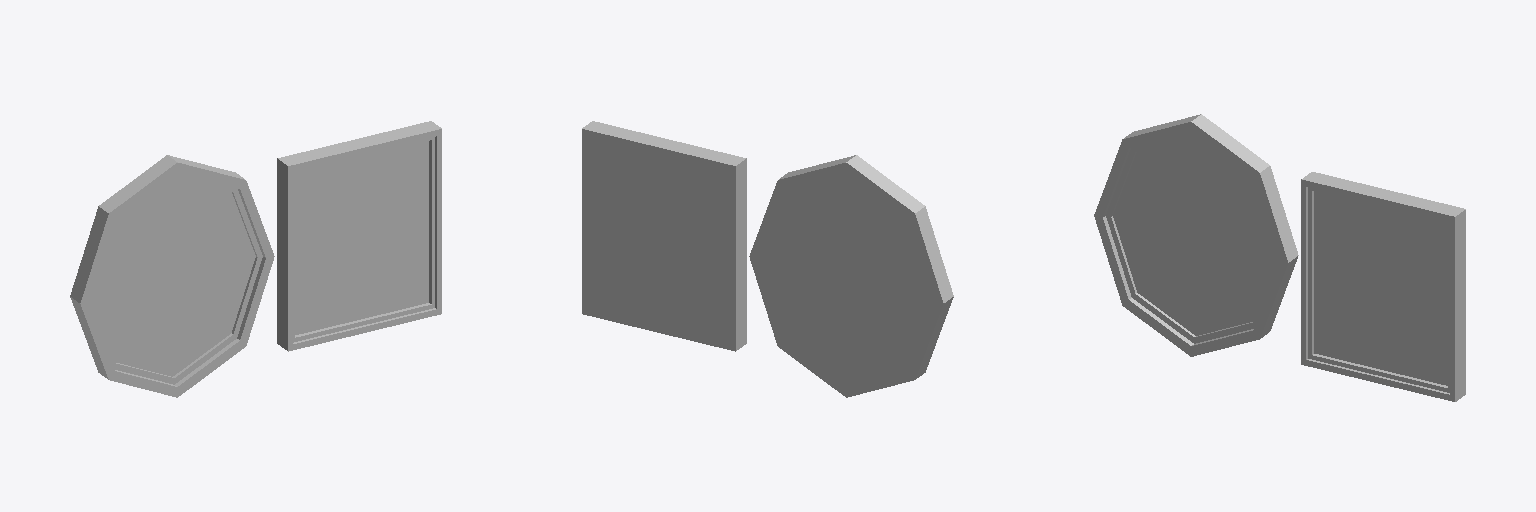
The model's file is Picture.obj.
3 views of the same model, side by side, from view 1: azimuth 30°, elevation 25°; view 2: azimuth 150°, elevation 25°; view 3: azimuth 330°, elevation 25° (orthographic).
Parts seen in each view (by area): view 1: pCylinder1, pCube1; view 2: pCylinder1, pCube1; view 3: pCylinder1, pCube1.
Part boxes in pixels (left/top/right/bottom): pCylinder1: left=70, top=155, right=274, bottom=397; pCube1: left=277, top=121, right=441, bottom=351; pCylinder1: left=749, top=155, right=953, bottom=397; pCube1: left=582, top=121, right=746, bottom=351; pCylinder1: left=1094, top=114, right=1298, bottom=356; pCube1: left=1301, top=172, right=1465, bottom=401.
Bounding box in the file's own units: 1.76 × 1.09 × 0.0911.